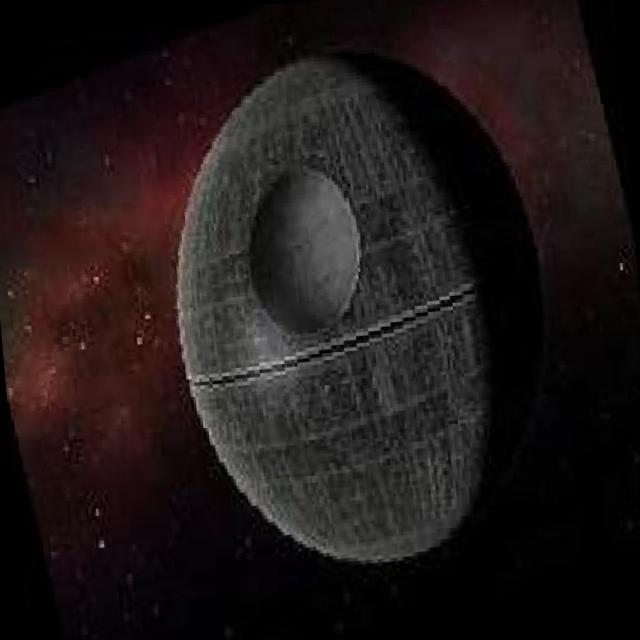Death Star: (148, 36, 568, 594)
